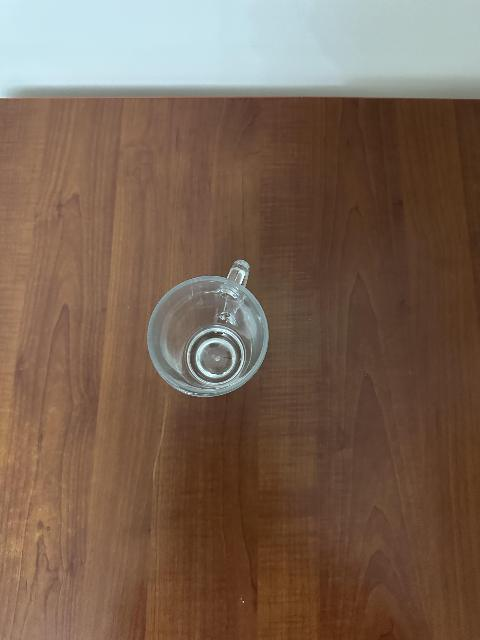Cam: (146, 257, 274, 403)
